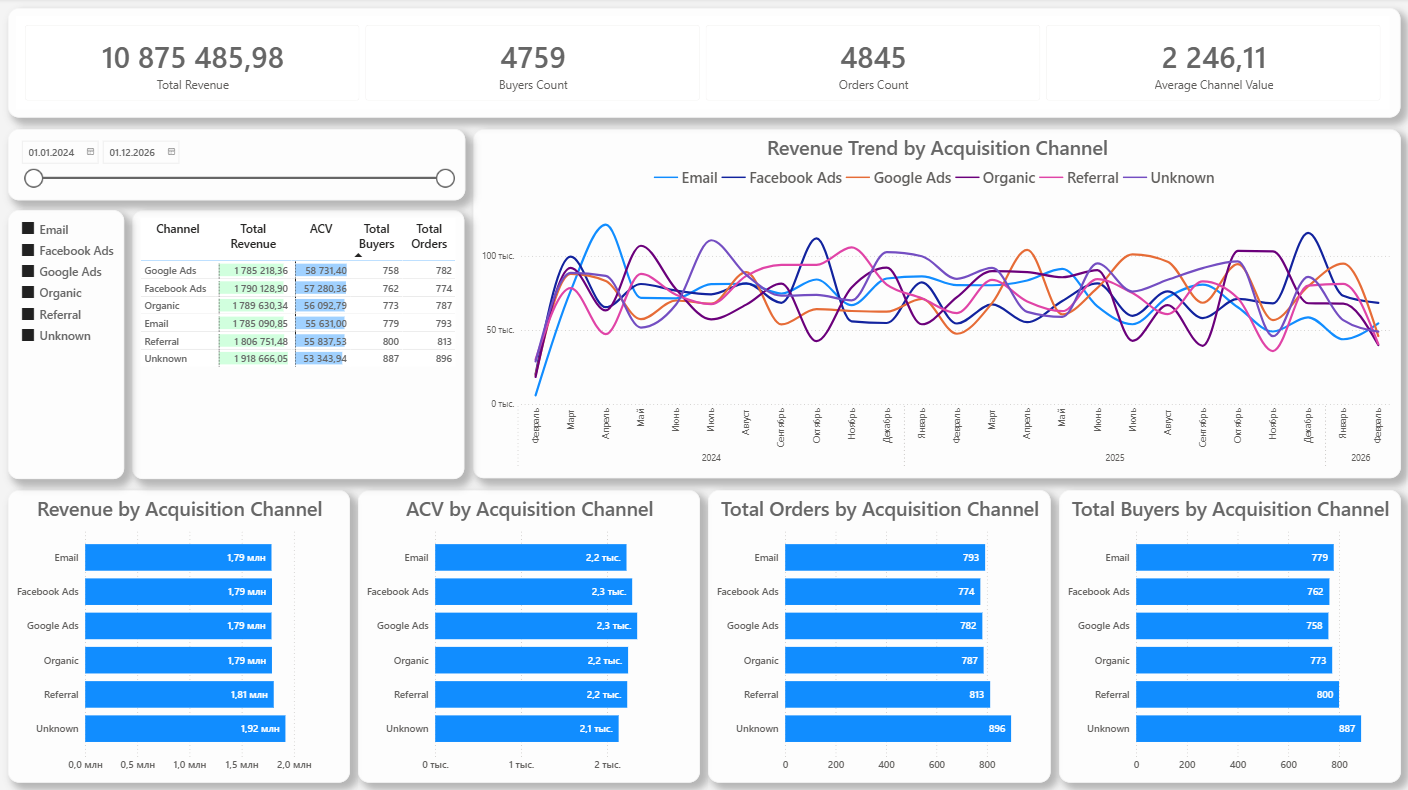

What the dashboard file says about the page in this screenshot:
{"tool":"powerbi","page":{"name":"Revenue by channel","canvas":[1920,1080],"ordinal":1},"visuals":[{"type":"clusteredBarChart","title":"Revenue by Acquisition Channel","fields":{"Category":["mart revenue_by_channel.acquisition_channel","dim_month.month_start.Изменение.Иерархия дат.Год","dim_month.month_start.Изменение.Иерархия дат.Месяц"],"Y":["Sum(mart revenue_by_channel.revenue)"]},"box":[10.8,669.2,465,398.5],"z":0},{"type":"barChart","title":"ACV by Acquisition Channel","fields":{"Category":["mart revenue_by_channel.acquisition_channel","dim_month.month_start.Изменение.Иерархия дат.Год","dim_month.month_start.Изменение.Иерархия дат.Месяц"],"Y":["Avg(mart revenue_by_channel.average_order_value)"]},"box":[486.8,669.2,465,398.5],"z":1000},{"type":"lineChart","title":"Revenue Trend by Acquisition Channel","fields":{"Category":["dim_month.month_start.Изменение.Иерархия дат.Год","dim_month.month_start.Изменение.Иерархия дат.Месяц"],"Y":["Sum(mart revenue_by_channel.revenue)"],"Series":["mart revenue_by_channel.acquisition_channel"]},"box":[643.1,178.5,1261.5,475.4],"z":2000},{"type":"cardVisual","fields":{"Data":["Sum(mart revenue_by_channel.revenue)","Sum(mart revenue_by_channel.buyers_count)","Sum(mart revenue_by_channel.orders_count)","Avg(mart revenue_by_channel.average_order_value)"]},"box":[10.8,13.8,1893.8,149.2],"z":3000},{"type":"barChart","title":"Total Orders by Acquisition Channel","fields":{"Category":["mart revenue_by_channel.acquisition_channel","dim_month.month_start.Изменение.Иерархия дат.Год","dim_month.month_start.Изменение.Иерархия дат.Месяц"],"Y":["Sum(mart revenue_by_channel.orders_count)"]},"box":[962.9,669.2,466,398.5],"z":4000},{"type":"barChart","title":"Total Buyers by Acquisition Channel","fields":{"Category":["mart revenue_by_channel.acquisition_channel","dim_month.month_start.Изменение.Иерархия дат.Год","dim_month.month_start.Изменение.Иерархия дат.Месяц"],"Y":["Sum(mart revenue_by_channel.buyers_count)"]},"box":[1440,669.2,464.6,398.5],"z":5000},{"type":"tableEx","fields":{"Values":["mart revenue_by_channel.acquisition_channel","Sum(mart revenue_by_channel.revenue)","Sum(mart revenue_by_channel.average_order_value)","Sum(mart revenue_by_channel.buyers_count)","Sum(mart revenue_by_channel.orders_count)"]},"box":[180,287.7,452.3,366.2],"z":6000},{"type":"slicer","fields":{"Values":["dim_month.month_start"]},"box":[10.8,178.5,621.5,96.9],"z":7000},{"type":"slicer","fields":{"Values":["mart revenue_by_channel.acquisition_channel"]},"box":[10.8,287.7,158.5,366.2],"z":8000}]}

Visuals, with their boxes in screenshot pixels (x1, y1, x2, y2), scaled from the page's 1920x1080 canvas onto the 1408x790 screenshot:
"Revenue by Acquisition Channel" clusteredBarChart: select_region(8, 490, 349, 781)
"ACV by Acquisition Channel" barChart: select_region(357, 490, 698, 781)
"Revenue Trend by Acquisition Channel" lineChart: select_region(472, 131, 1397, 478)
cardVisual - Sum(mart revenue_by_channel.revenue) x Sum(mart revenue_by_channel.buyers_count): select_region(8, 10, 1397, 119)
"Total Orders by Acquisition Channel" barChart: select_region(706, 490, 1048, 781)
"Total Buyers by Acquisition Channel" barChart: select_region(1056, 490, 1397, 781)
tableEx - mart revenue_by_channel.acquisition_channel x Sum(mart revenue_by_channel.revenue): select_region(132, 210, 464, 478)
slicer - dim_month.month_start: select_region(8, 131, 464, 201)
slicer - mart revenue_by_channel.acquisition_channel: select_region(8, 210, 124, 478)
